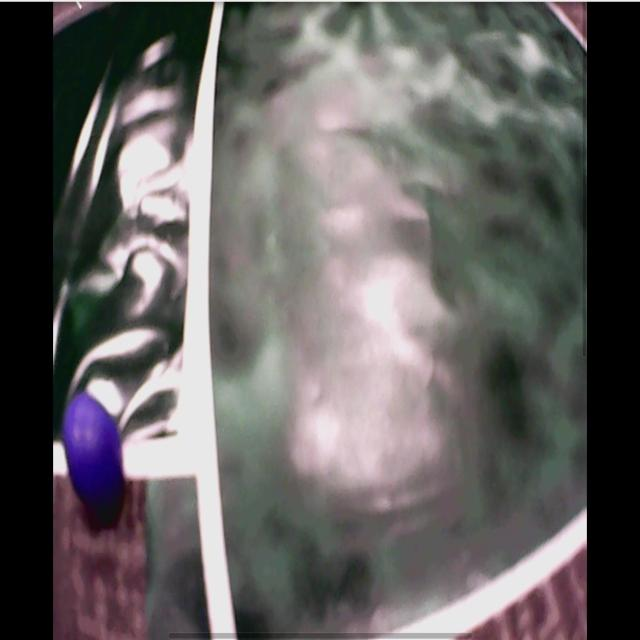ball: (64, 395, 122, 496)
